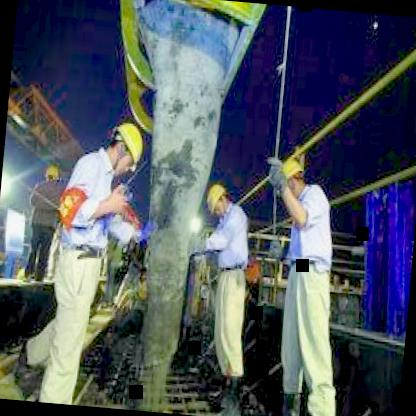helmet: (103, 113, 149, 181), (272, 156, 306, 205), (204, 184, 231, 224), (45, 160, 60, 188)
